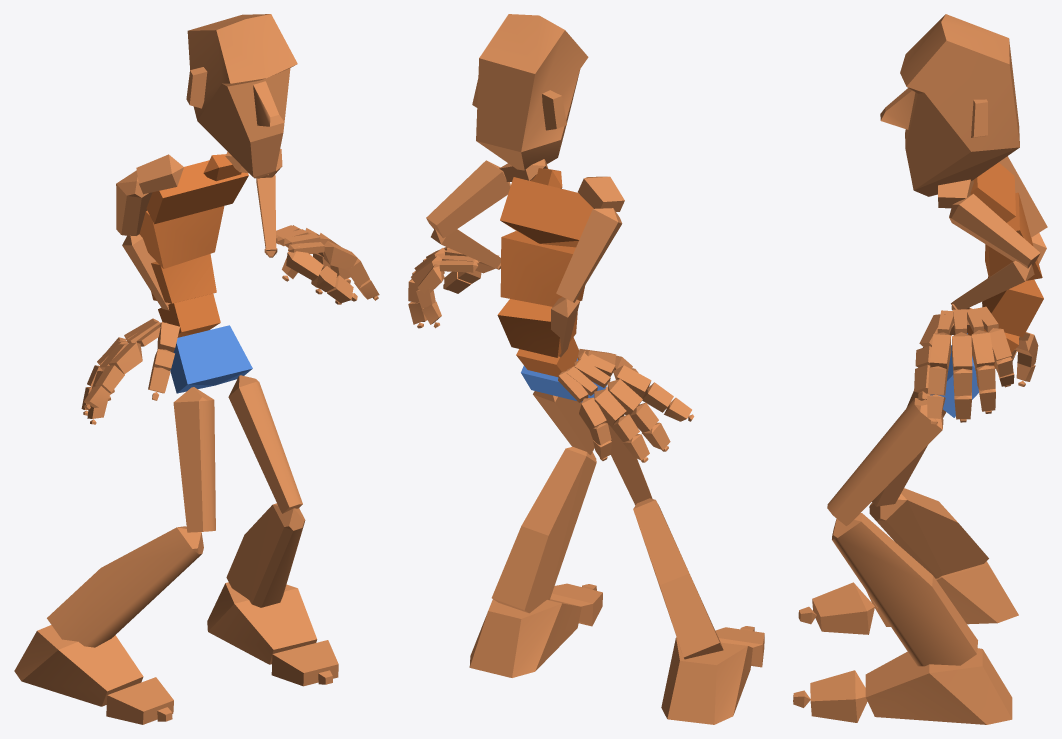
Rendered from personaje311.obj.
3 views of the same model, side by side, from view 1: azimuth 30°, elevation 25°; view 2: azimuth 150°, elevation 25°; view 3: azimuth 270°, elevation 25° (orthographic). The views are drawn at different scales.
Parts seen in each view (by area): view 1: BOPED_Head, BOPED_R_leg, BOPED_R_foot, BOPED_R_foot01, BOPED_L_leg, BOPED_R_legup, BOPED_L_legup, Bone01, Bone04, Bone05, Bone03, BOPED_R_foot_toe01 (+10 smaller); view 2: BOPED_Head, BOPED_L_leg, BOPED_R_foot01, BOPED_R_foot, BOPED_R_leg, Bone05, Bone04, BOPED_L_arm_upper, BOPED_R_arm_upper, Bone03, BOPED_L_legup, BOPED_R_legup (+11 smaller); view 3: BOPED_Head, BOPED_L_leg, BOPED_R_foot01, BOPED_R_leg, BOPED_L_legup, BOPED_R_foot, BOPED_L_arm_upper, BOPED_R_foot_toe01, BOPED_R_foot_toe04, Bone03, Bone05, BOPED_L_arm_fore (+12 smaller).
Part boxes in pixels (x1,y1,x2,y2): BOPED_Head: [186, 14, 297, 178]; BOPED_R_leg: [47, 526, 203, 647]; BOPED_R_foot: [14, 625, 143, 706]; BOPED_R_foot01: [207, 582, 317, 664]; BOPED_L_leg: [226, 503, 305, 607]; BOPED_R_legup: [173, 387, 215, 532]; BOPED_L_legup: [228, 375, 302, 513]; Bone01: [170, 325, 252, 393]; Bone04: [139, 206, 224, 268]; Bone05: [146, 160, 248, 224]; Bone03: [151, 254, 216, 303]; BOPED_R_foot_toe01: [106, 677, 173, 724]; BOPED_Head: [472, 14, 588, 170]; BOPED_L_leg: [491, 446, 596, 613]; BOPED_R_foot01: [469, 599, 581, 677]; BOPED_R_foot: [661, 637, 752, 724]; BOPED_R_leg: [633, 498, 723, 659]; Bone05: [500, 177, 593, 247]; Bone04: [500, 231, 585, 306]; BOPED_L_arm_upper: [426, 160, 510, 238]; BOPED_R_arm_upper: [556, 208, 622, 302]; Bone03: [497, 299, 577, 357]; BOPED_L_legup: [533, 391, 594, 454]; BOPED_R_legup: [605, 387, 652, 505]; BOPED_Head: [880, 14, 1019, 196]; BOPED_L_leg: [832, 513, 977, 666]; BOPED_R_foot01: [865, 648, 1012, 724]; BOPED_R_leg: [869, 488, 988, 578]; BOPED_L_legup: [827, 398, 943, 525]; BOPED_R_foot: [866, 561, 1018, 626]; BOPED_L_arm_upper: [949, 194, 1040, 268]; BOPED_R_foot_toe01: [812, 582, 874, 634]; BOPED_R_foot_toe04: [810, 670, 867, 722]; Bone03: [982, 276, 1043, 337]; Bone05: [970, 162, 1015, 222]; BOPED_L_arm_fore: [951, 260, 1034, 309].
Bounding box in the file's own units: 94.96 × 169 × 57.33.
